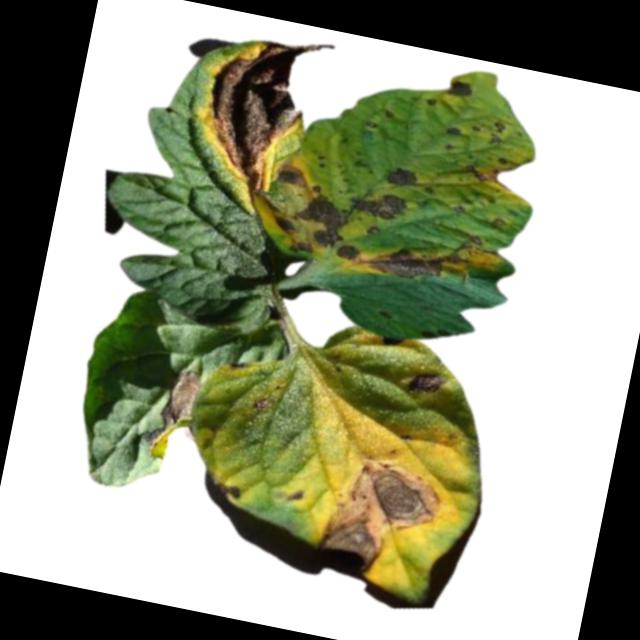Early_blight: (186, 17, 337, 200), (311, 443, 457, 587), (364, 216, 501, 296), (268, 179, 351, 263), (148, 363, 205, 465), (403, 362, 451, 406), (352, 184, 407, 220), (206, 467, 250, 500), (439, 72, 479, 101), (384, 159, 420, 191), (464, 159, 501, 185), (336, 237, 363, 266), (487, 117, 508, 147), (249, 391, 276, 413), (284, 485, 308, 505), (448, 121, 464, 138)
